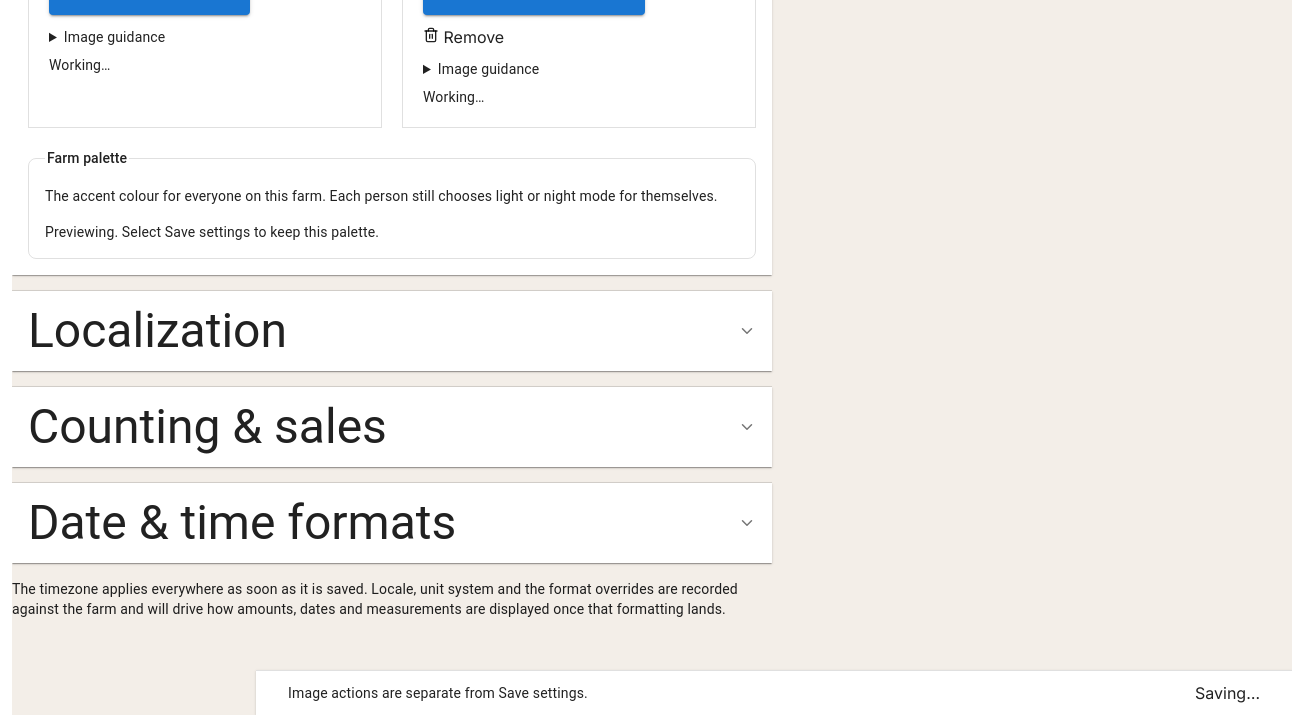
Test: SettingsPage worker sale allocation policy (#612) › shows both policy choices and selects the stored default
(page scrolled)
expect the button "Localization" is shown: met, box [12,291,772,371]
Click the button "Counting & sales" at coordinates (207, 426), box [12,387,772,467]
(page scrolled)
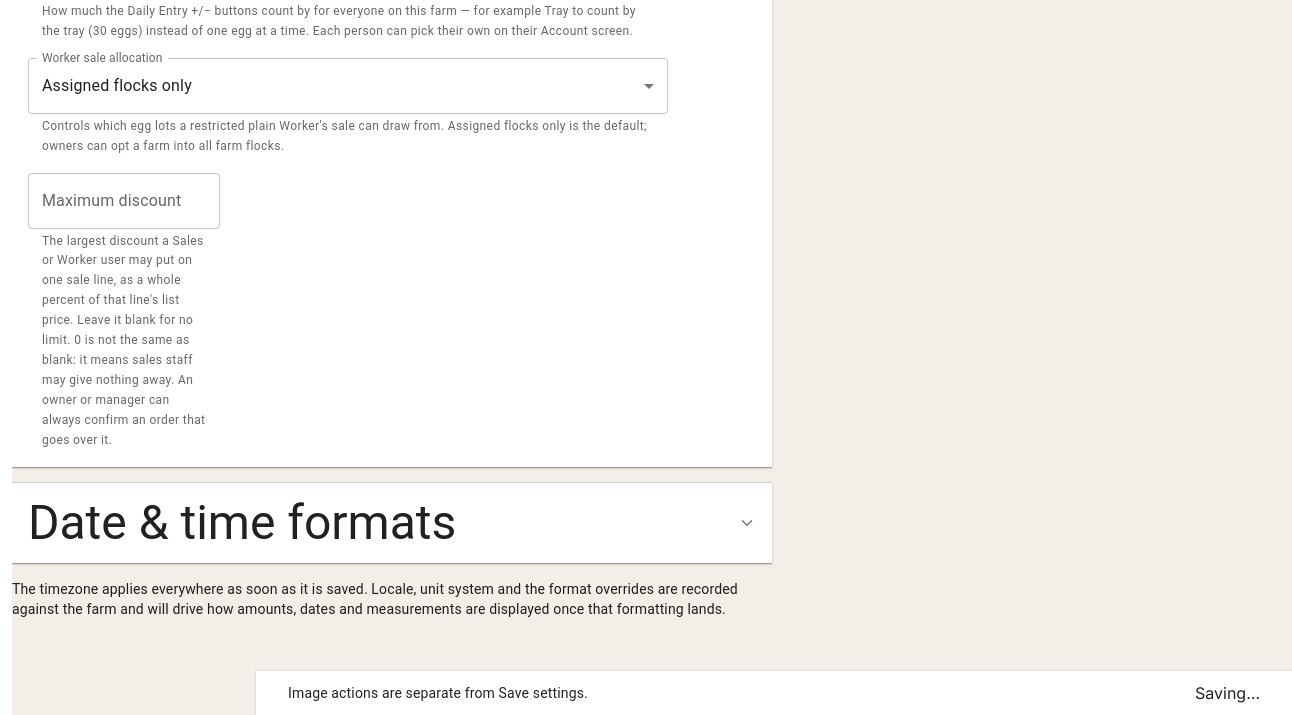
expect the dropdown labelled "Worker sale allocation" shows "Assigned flocks only": met, box [28,58,668,114]
